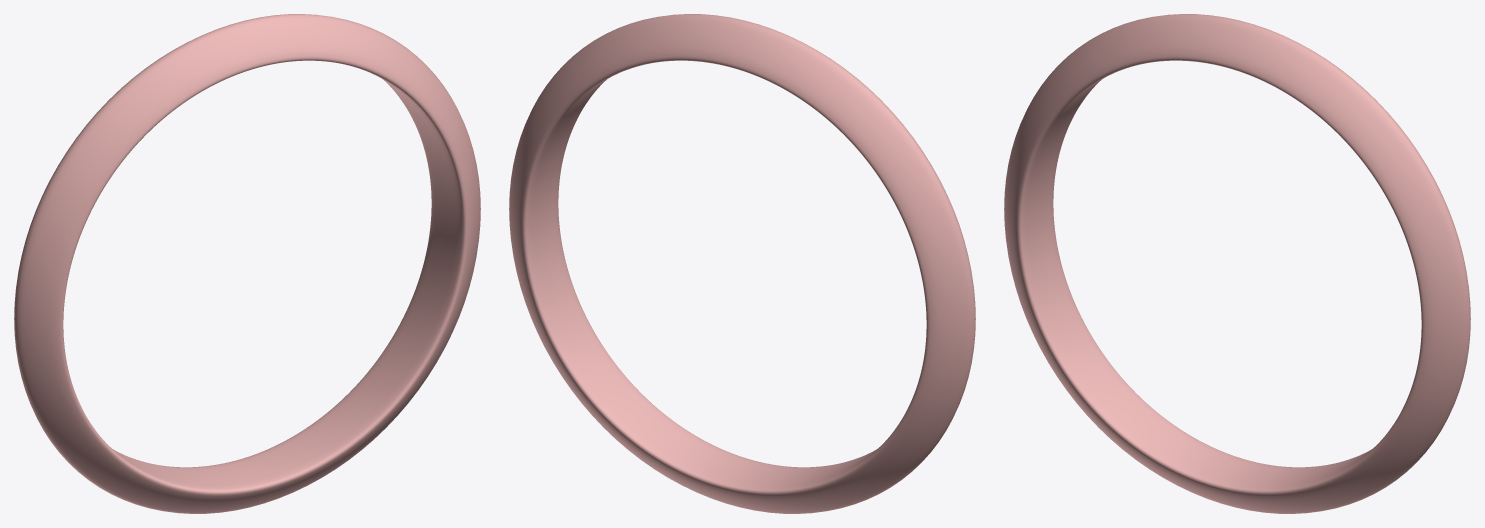
Rendered from KNIFE-EDGE.glb.
The picture shows the model from 3 angles, left to right: view 1: azimuth 30°, elevation 25°; view 2: azimuth 150°, elevation 25°; view 3: azimuth 330°, elevation 25°; orthographic projection.
Visible parts, largest first — view 1: knife edge; view 2: knife edge; view 3: knife edge.
Part boxes in pixels (x1,y1,x2,y2): knife edge: (14,14,480,513); knife edge: (509,14,975,513); knife edge: (1004,14,1470,513).
Size of the model in its own units: 15.1 by 15.1 by 1.89.
